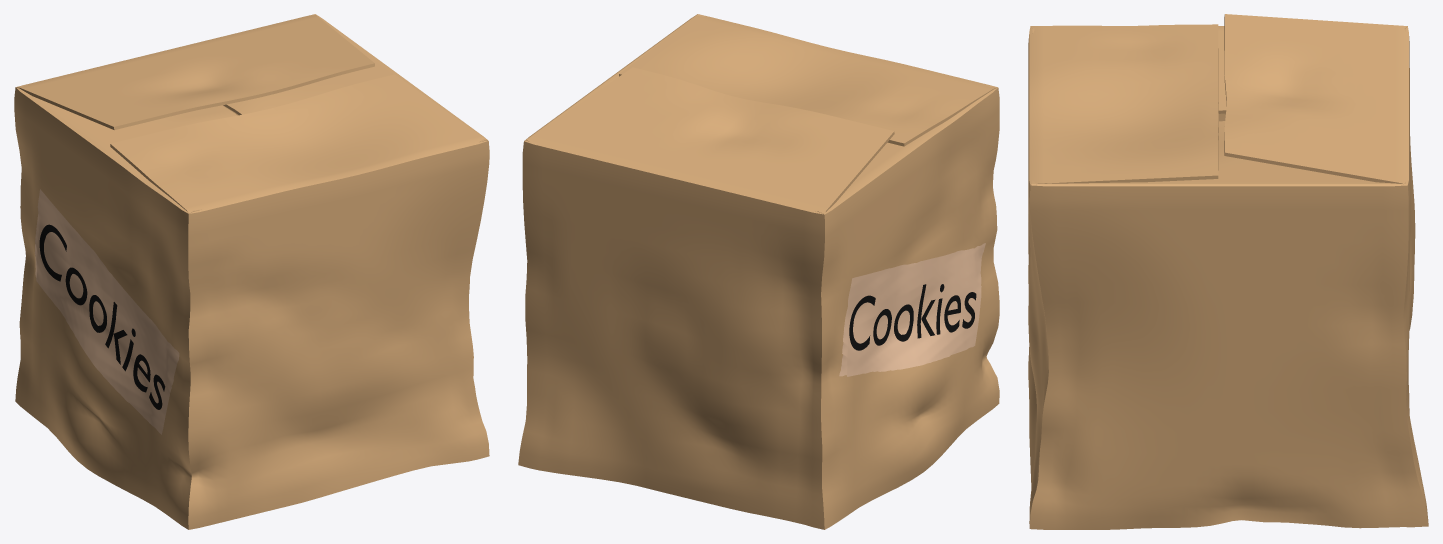
Rendered from cookies.fbx.
3 renders of one model, left to right at view 1: azimuth 30°, elevation 25°; view 2: azimuth 150°, elevation 25°; view 3: azimuth 270°, elevation 25°, orthographic. The views are drawn at different scales.
Visible parts, largest first — view 1: Cube; view 2: Cube; view 3: Cube.
Part boxes in pixels (x1,y1,x2,y2): Cube: (14, 14, 489, 529); Cube: (518, 14, 999, 529); Cube: (1028, 14, 1428, 529).
Bounding box in the file's own units: 214 × 215 × 214.
